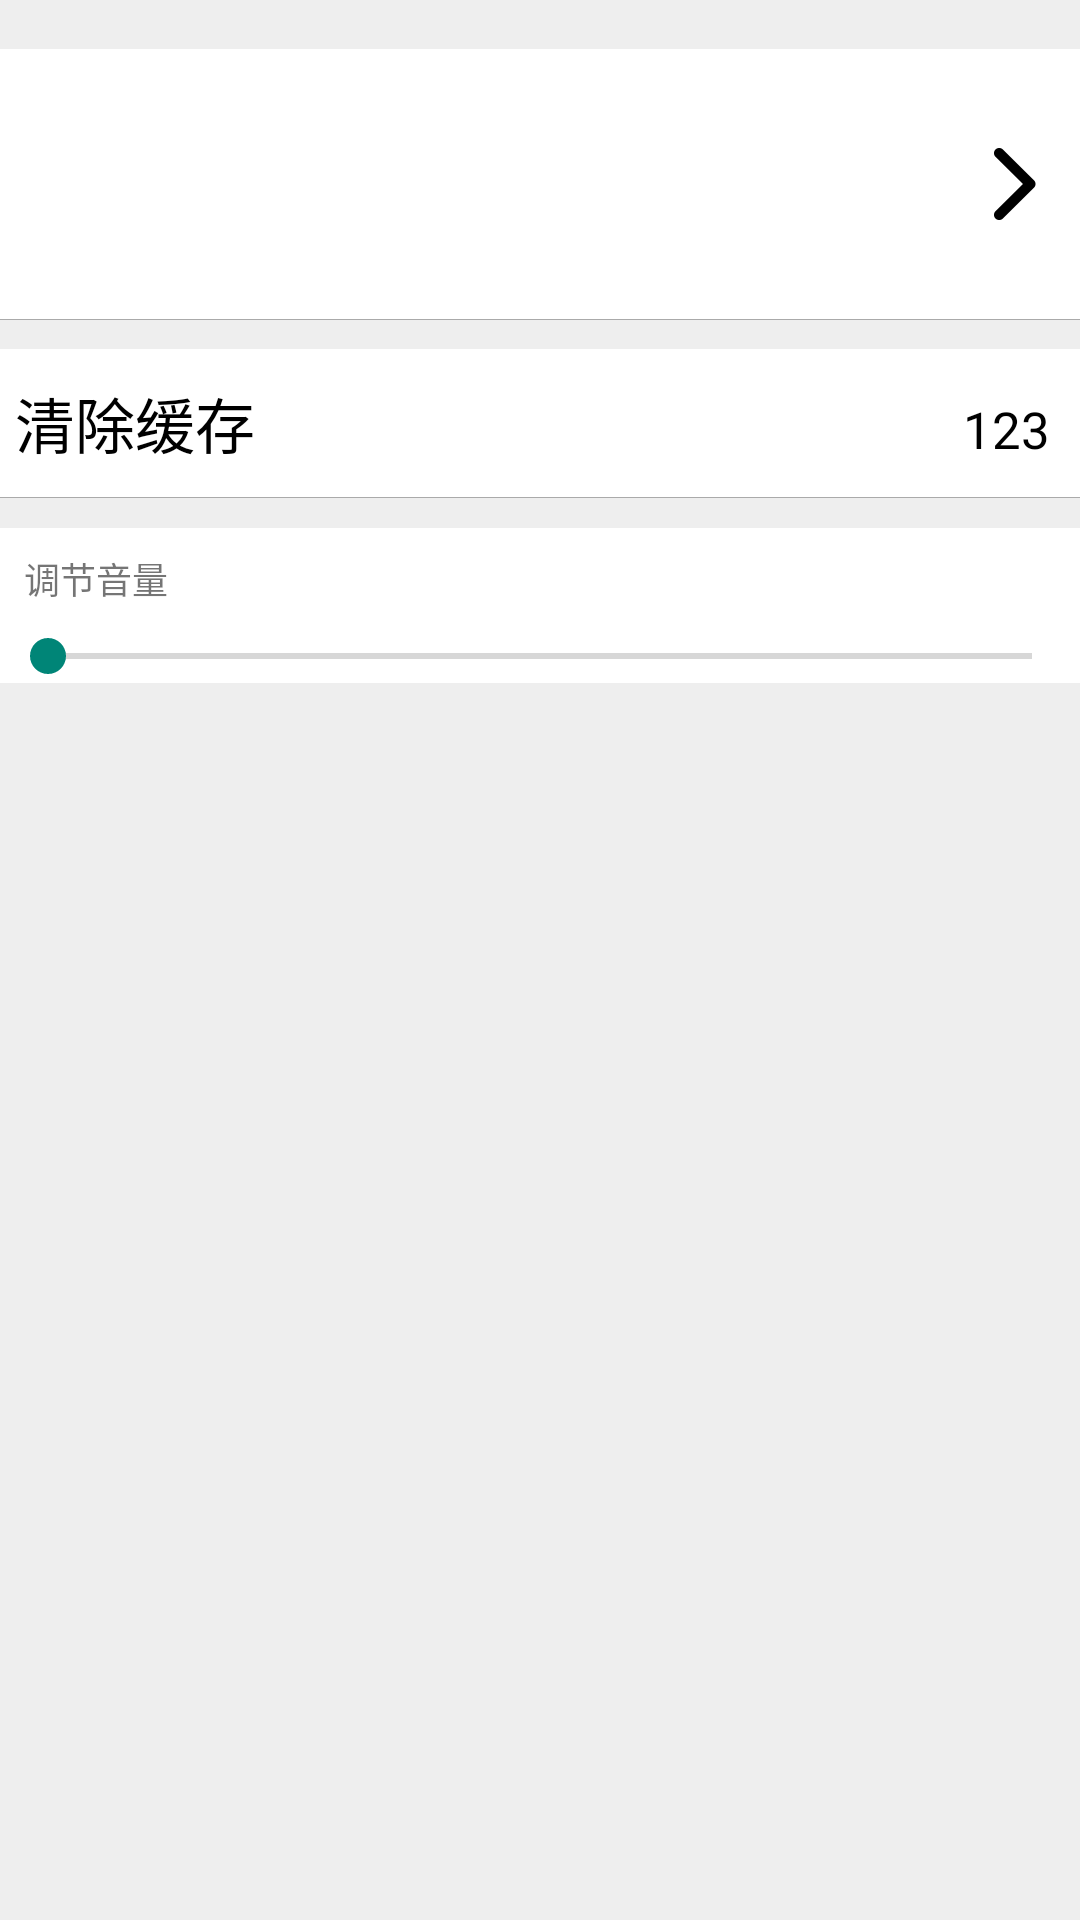

Icons on this 1080px x 1920px Android screen, each with its box as detection(x1, y1, x2, y2):
right: detection(994, 148, 1036, 220)
